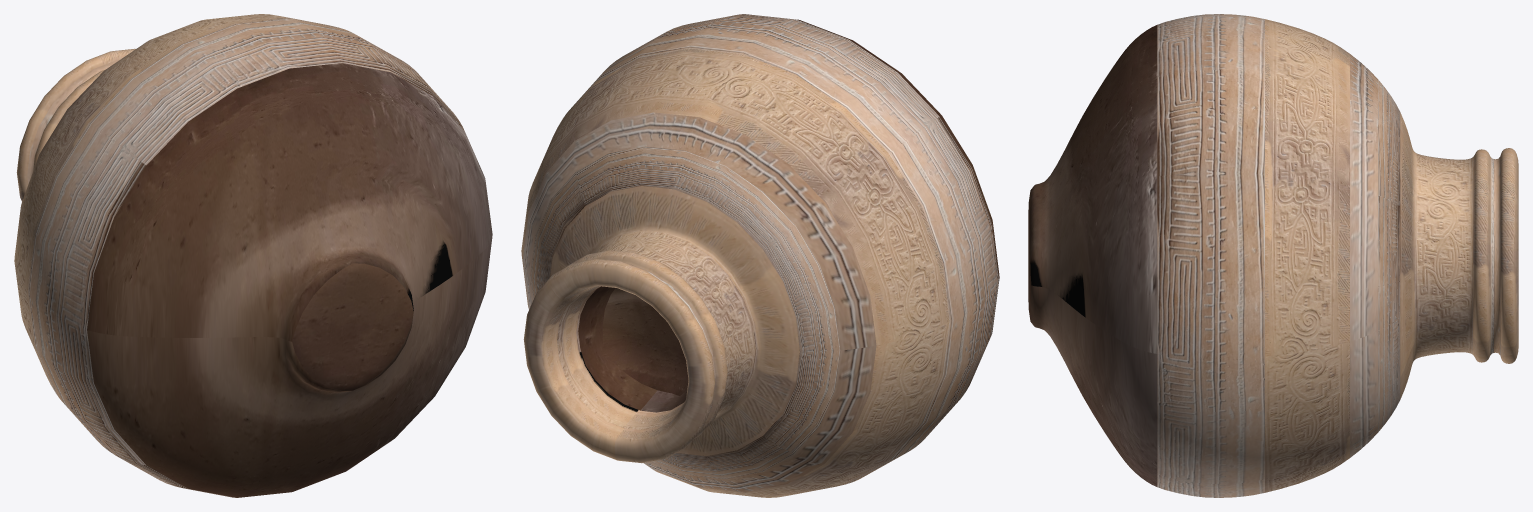
The model's file is urna_002.glb.
3 renders of one model, left to right at view 1: azimuth 30°, elevation 25°; view 2: azimuth 150°, elevation 25°; view 3: azimuth 270°, elevation 25°, orthographic.
Parts seen in each view (by area): view 1: Plane.001; view 2: Plane.001; view 3: Plane.001.
Part boxes in pixels (x1=…): Plane.001: x1=14, y1=14, x2=492, y2=497; Plane.001: x1=521, y1=14, x2=999, y2=497; Plane.001: x1=1028, y1=14, x2=1518, y2=497.
Bounding box in the file's own units: 1.81 × 1.81 × 1.83.
Materials: 1 (1 with a texture image).
